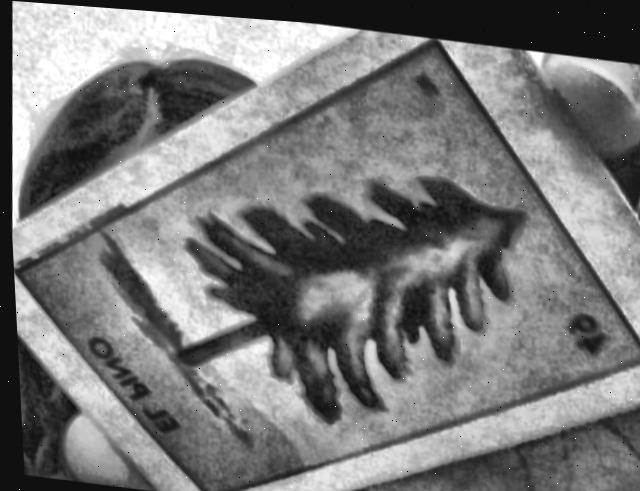El Pino: (11, 35, 640, 491)
